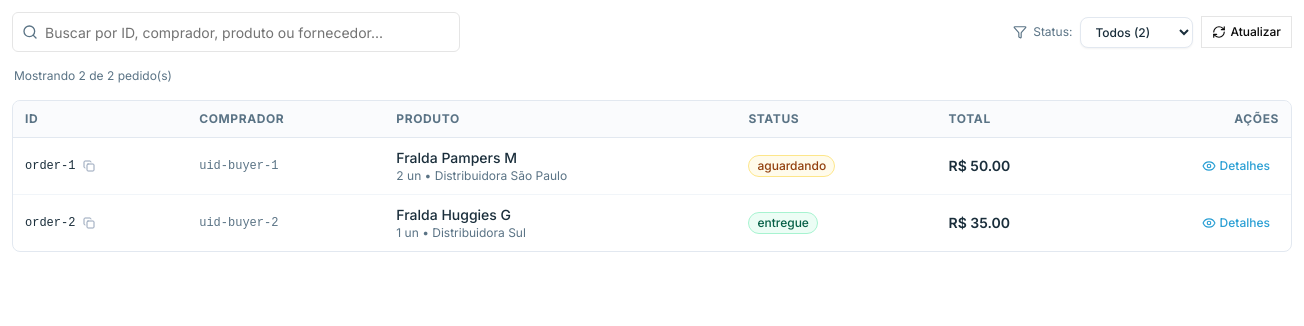
Test: AdminOrdersTab › após clicar em atualizar, a segunda resposta contém o novo pedido e a tabela passa a exibi-lo
The width and height of the screenshot is (1304, 326).
Expected: the text "order-1" is shown, [25,158,75,174]
Expected: the text "order-3-novo" is not shown
Note: Clica em Atualizar
Click the button "Atualizar". click: (1247, 32)
box: [1201,16,1292,48]
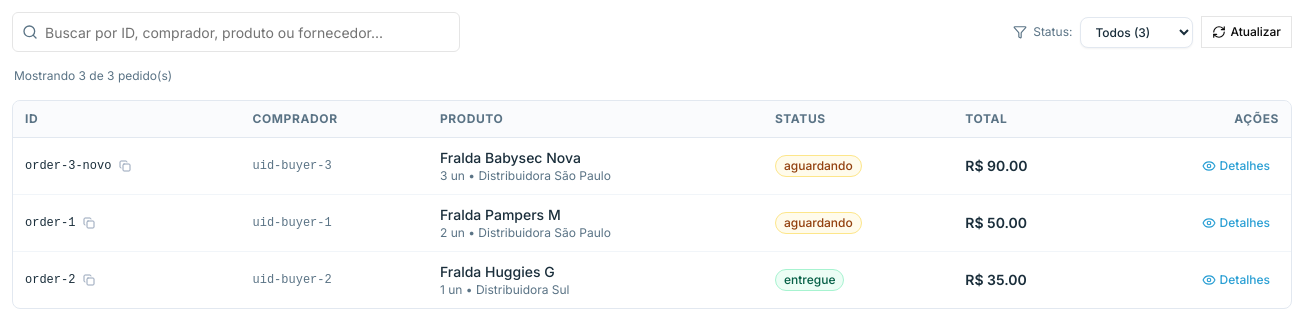
Expected: the text "order-1" is shown, [25,215,75,231]
Now the text "order-3-novo" is shown, box [25,158,111,174]
Now the text "Fralda Babysec Nova" is shown, box [440,149,581,166]
